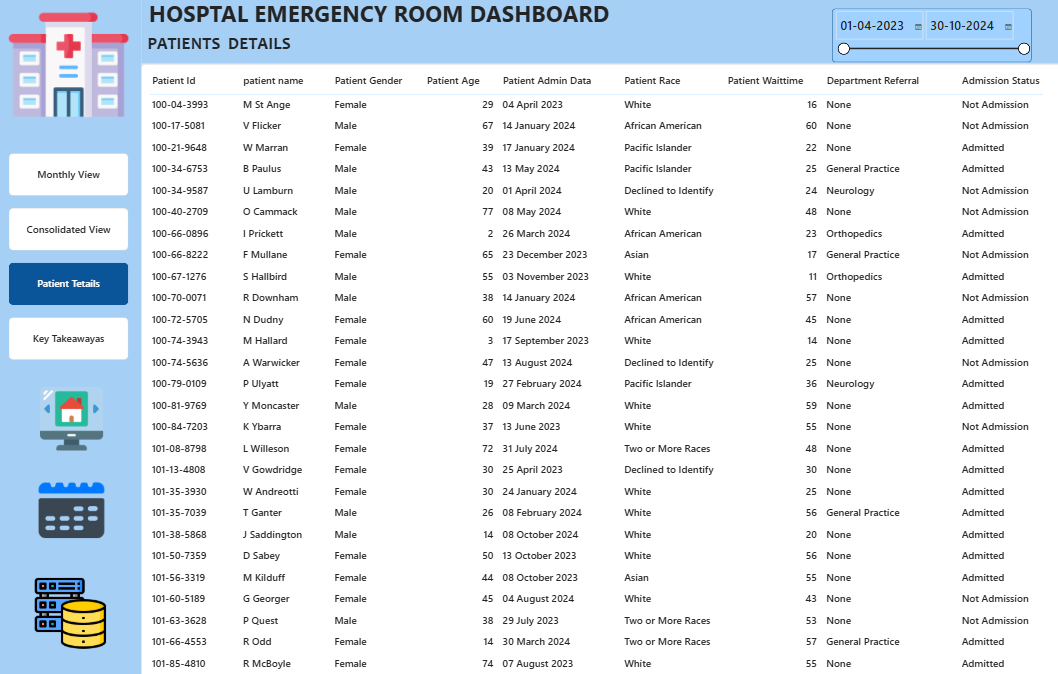

This screenshot's page, from the dashboard's own definition file:
{"tool":"powerbi","page":{"name":"Patient Tetails","canvas":[2280,1450],"ordinal":2},"visuals":[{"type":"shape","box":[0,0,308.9,1600],"z":0},{"type":"shape","box":[308.9,0,2692.7,139.8],"z":1000},{"type":"textbox","box":[324.9,0,1220.5,87.8],"z":2000},{"type":"textbox","box":[324.2,73.7,327.1,67.8],"z":3000},{"type":"slicer","fields":{"Values":["Data Table.Date"]},"box":[1786,23.6,427.3,114.9],"z":4000},{"type":"image","box":[26.5,0,256.4,285.9],"z":5000},{"type":"tableEx","fields":{"Values":["Hospital ER_Data.Patient Id","Hospital ER_Data.patient full name","Hospital ER_Data.Patient Gender","Sum(Hospital ER_Data.Patient Age)","Hospital ER_Data.Patient Admin Data","Hospital ER_Data.Patient Race","Sum(Hospital ER_Data.Patient Waittime)","Hospital ER_Data.Department Referral","Hospital ER_Data.Admission Status"]},"box":[308.9,143.1,1996.7,1430.9],"z":6000},{"type":"pageNavigator","box":[26.5,333,256.4,442.1],"z":7000},{"type":"image","box":[8.8,831.1,300.6,135.6],"z":8000},{"type":"image","box":[8.8,1025.6,300.6,141.5],"z":9000},{"type":"image","box":[17.7,1234.9,282.9,162.1],"z":10000}]}

Visuals, with their boxes in screenshot pixels (x1, y1, x2, y2), scaled from the page's 2280x1450 canvas onto the 1058x674 screenshot:
shape: {"x1": 0, "y1": 0, "x2": 143, "y2": 673}
shape: {"x1": 143, "y1": 0, "x2": 1057, "y2": 65}
textbox: {"x1": 151, "y1": 0, "x2": 717, "y2": 41}
textbox: {"x1": 150, "y1": 34, "x2": 302, "y2": 66}
slicer - Data Table.Date: {"x1": 829, "y1": 11, "x2": 1027, "y2": 64}
image: {"x1": 12, "y1": 0, "x2": 131, "y2": 133}
tableEx - Hospital ER_Data.Patient Id x Hospital ER_Data.patient full name: {"x1": 143, "y1": 67, "x2": 1057, "y2": 673}
pageNavigator: {"x1": 12, "y1": 155, "x2": 131, "y2": 360}
image: {"x1": 4, "y1": 386, "x2": 144, "y2": 449}
image: {"x1": 4, "y1": 477, "x2": 144, "y2": 543}
image: {"x1": 8, "y1": 574, "x2": 139, "y2": 649}
